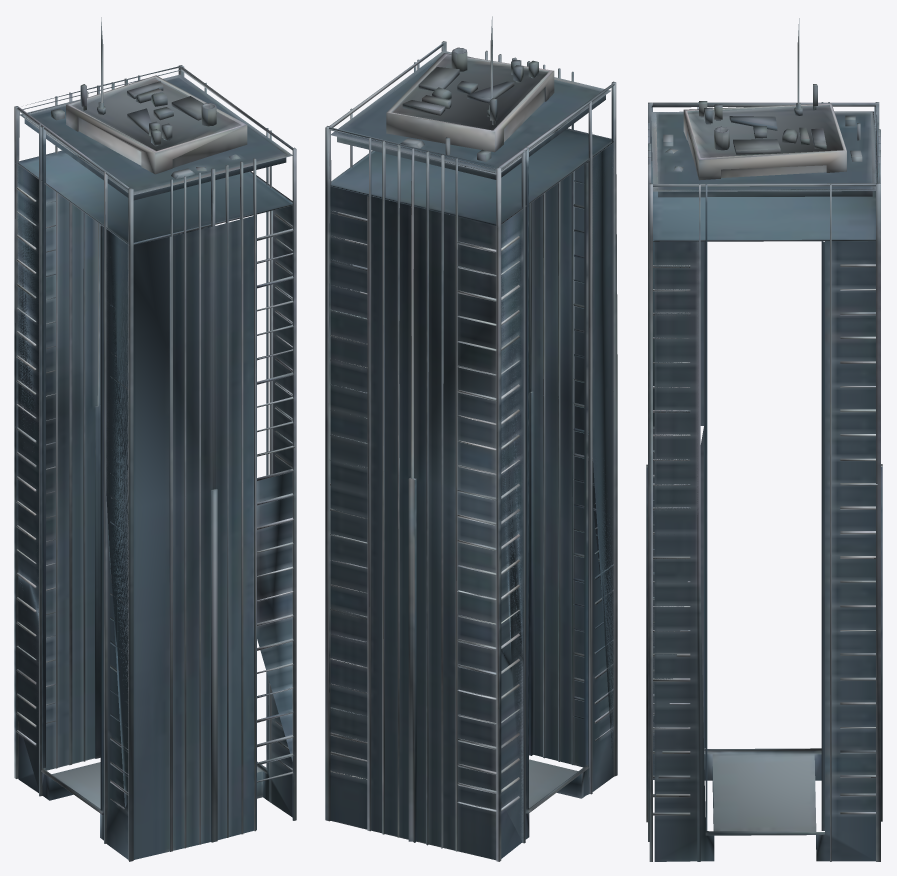
File: city-glass-tower.glb
The picture shows the model from 3 angles, left to right: view 1: azimuth 30°, elevation 25°; view 2: azimuth 150°, elevation 25°; view 3: azimuth 270°, elevation 25°; orthographic projection. The views are drawn at different scales.
Parts seen in each view (by area): view 1: Glass tower; view 2: Glass tower; view 3: Glass tower.
Part boxes in pixels (x1,y1,x2,y2): Glass tower: (14, 17, 296, 861); Glass tower: (325, 16, 617, 861); Glass tower: (646, 18, 882, 861).
Size of the model in its own units: 0.2285 by 0.998 by 0.2715.
1 material, 1 textured.
